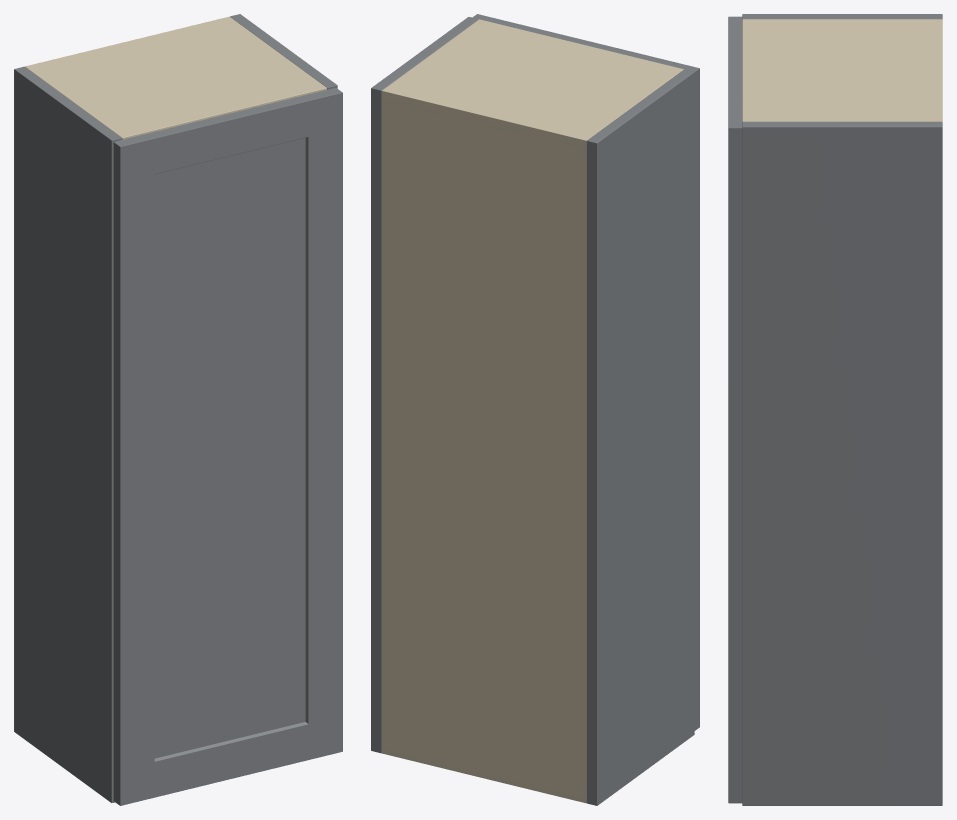
File: oppein-ply-gss-w1542.glb
3 views of the same model, side by side, from view 1: azimuth 30°, elevation 25°; view 2: azimuth 150°, elevation 25°; view 3: azimuth 270°, elevation 25° (orthographic). The views are drawn at different scales.
Parts seen in each view (by area): view 1: Door, Cabinet side, Cabinet top, Cabinet side.001; view 2: Cabinet back, Cabinet side, Cabinet top, Cabinet side.001, Door, Cabinet bottom; view 3: Cabinet side.001, Cabinet top, Door, Cabinet side.
Part boxes in pixels (bbox=[...]): Door: bbox=[113, 87, 342, 805]; Cabinet side: bbox=[14, 66, 121, 802]; Cabinet top: bbox=[25, 16, 326, 139]; Cabinet side.001: bbox=[230, 14, 337, 89]; Cabinet back: bbox=[382, 91, 586, 802]; Cabinet side: bbox=[586, 69, 694, 805]; Cabinet top: bbox=[382, 19, 683, 150]; Cabinet side.001: bbox=[371, 17, 478, 753]; Door: bbox=[472, 14, 699, 730]; Cabinet bottom: bbox=[382, 749, 586, 803]; Cabinet side.001: bbox=[742, 121, 942, 805]; Cabinet top: bbox=[742, 19, 942, 121]; Door: bbox=[728, 16, 742, 803]; Cabinet side: bbox=[742, 14, 942, 19].
Size of the model in its own units: 0.381 by 1.07 by 0.3048.
